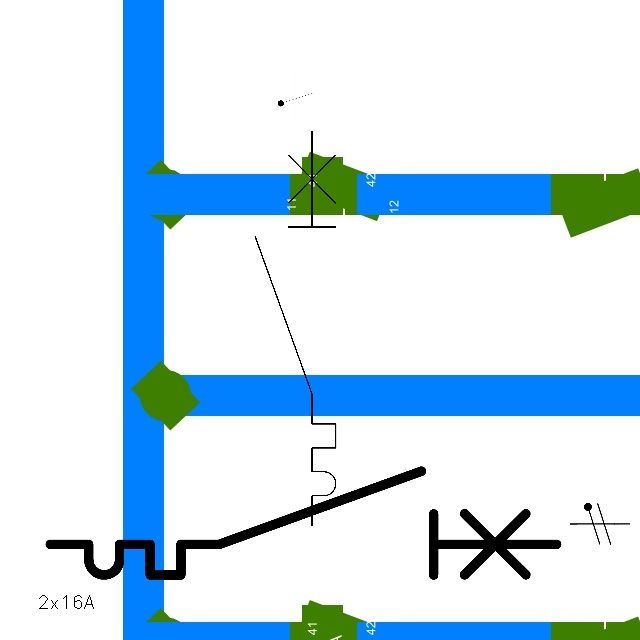interruptor_termomagnetico: (37, 458, 570, 588), (245, 120, 346, 535)
